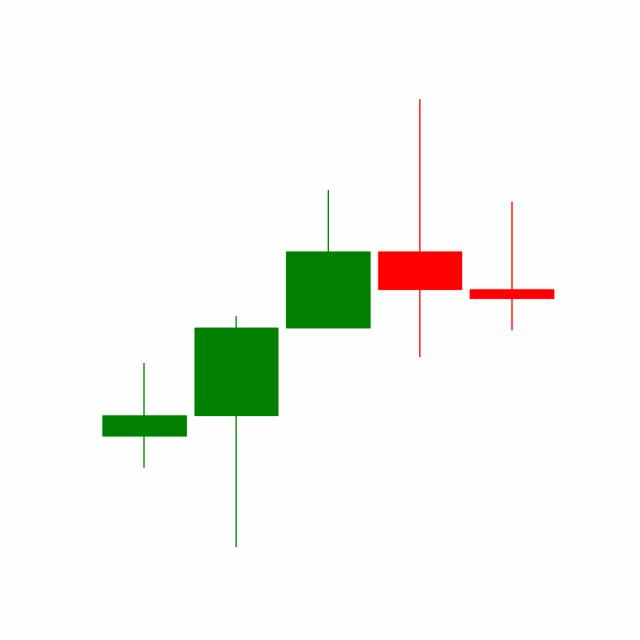Spinning Top: (464, 199, 558, 332)
